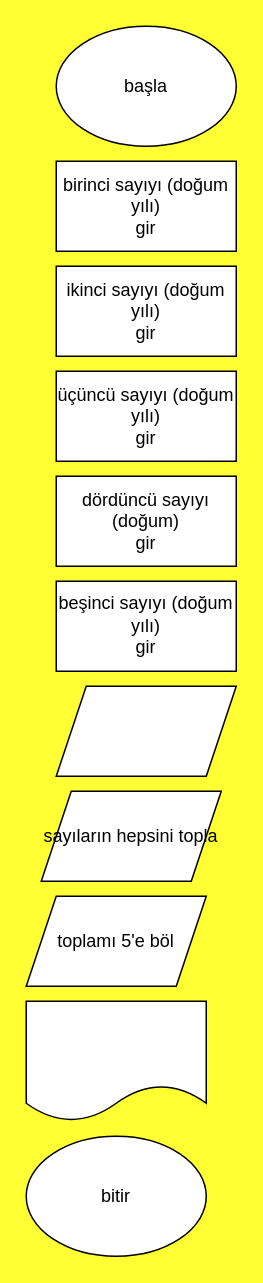
Some shapes in this 263 by 1283 pixel diagram are drawn without their labels. The centre of each missing label's shape, as x and y in pixels:
"cevabı yaz" belongs at pixel 115 1060.
"tüm sayıları 2025 ile eksilt" belongs at pixel 145 730.
